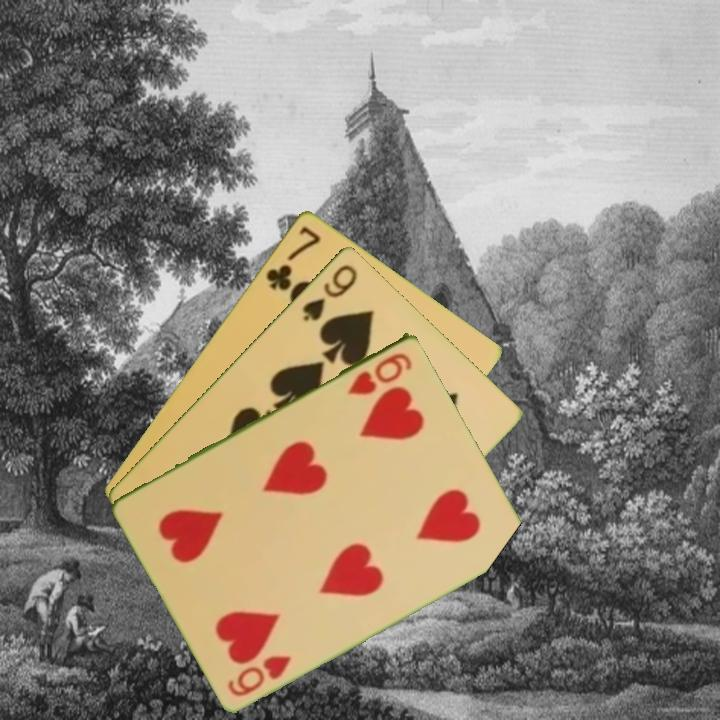6h: (344, 348, 416, 398), (224, 651, 295, 699)
7c: (262, 222, 324, 294)
9s: (298, 260, 360, 324)
